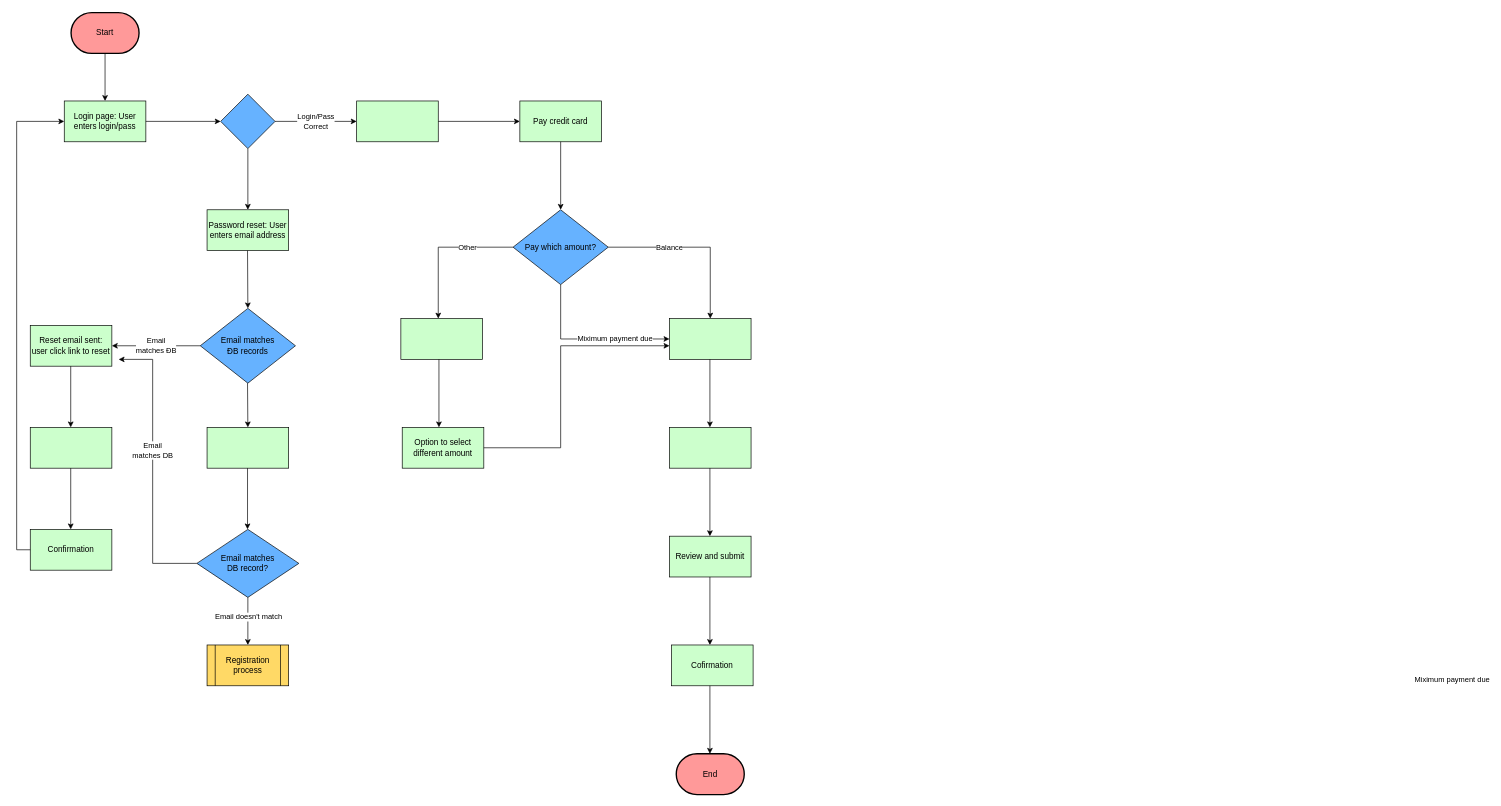
The diagram is 1501 pixels wide and 806 high, and some of its shapes have lost their labels. The shapes that lost their labels are listed below. From the top down, each one's centre as x and y in pixels, then its label:
At pixel 247 121: "Login Info Correct?".
At pixel 397 121: "View account deltails".
At pixel 441 338: "If payment is less than miximum due, show notice".
At pixel 710 338: "Select payment account".
At pixel 71 447: "Enter new password".
At pixel 247 447: "Re enter email address".
At pixel 710 447: "Select payment post date".
